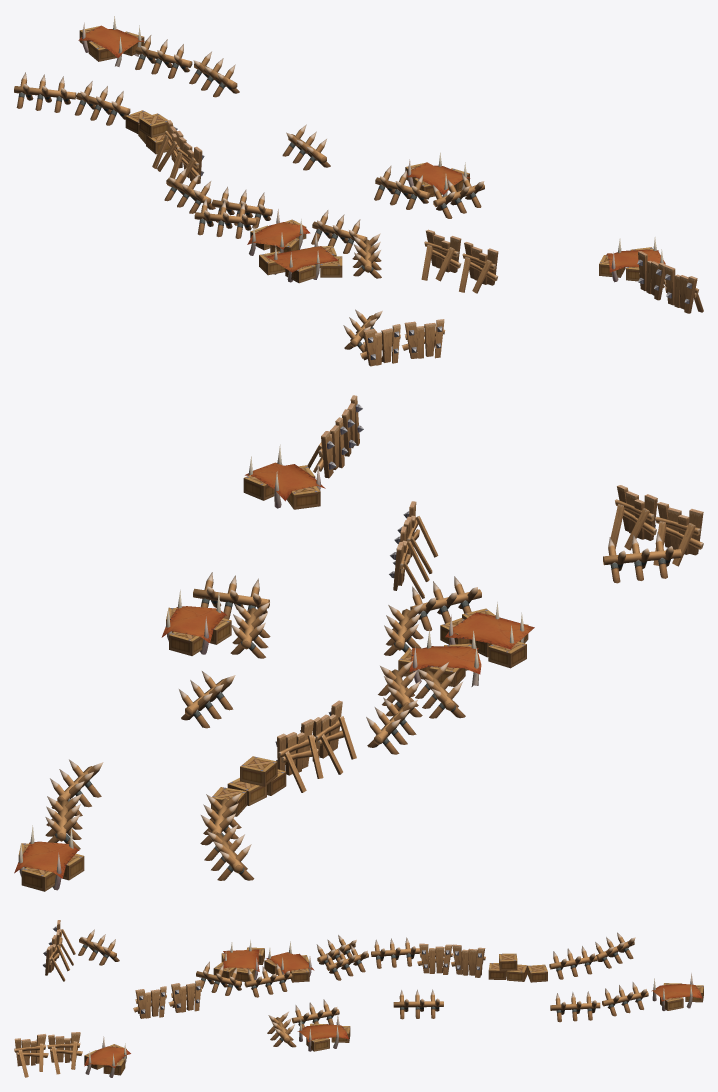
The model's file is area_08_18.fbx.
3 renders of one model, top to bottom at view 1: azimuth 30°, elevation 25°; view 2: azimuth 150°, elevation 25°; view 3: azimuth 270°, elevation 25°, orthographic. The views are drawn at different scales.
Visible parts, largest first — view 1: area_08_18; view 2: area_08_18; view 3: area_08_18.
Boxes of the visible parts, x1,y1,x2,y2 form: area_08_18: (14,16,703,366); area_08_18: (14,395,703,891); area_08_18: (14,920,703,1077).
Bounding box in the file's own units: 32.22 × 3.99 × 72.66.
